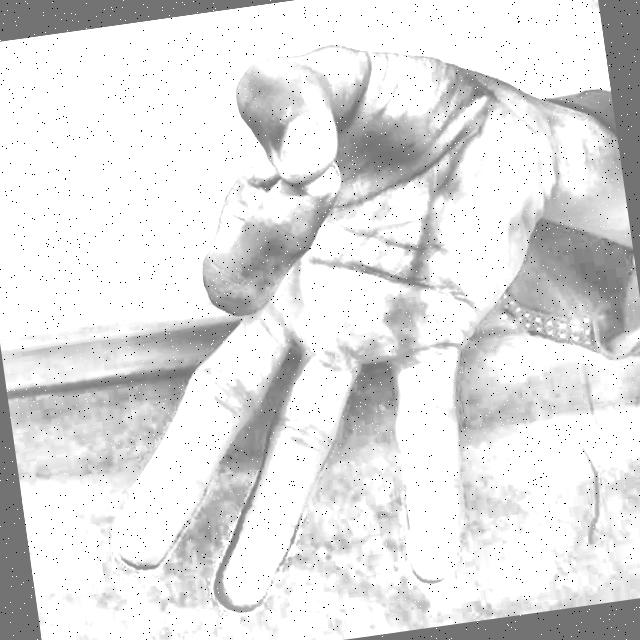Fa: (19, 4, 610, 640)
